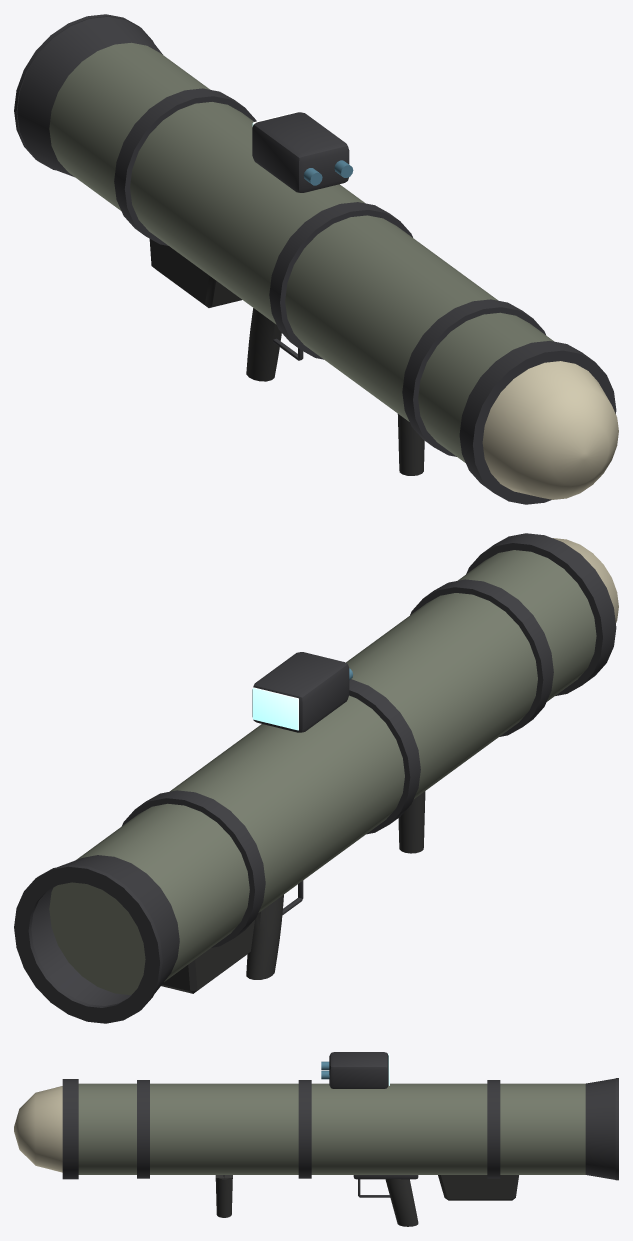
File: tortoise.glb
The picture shows the model from 3 angles, top to bottom: view 1: azimuth 30°, elevation 25°; view 2: azimuth 150°, elevation 25°; view 3: azimuth 270°, elevation 25°; orthographic projection. The views are drawn at different scales.
Visible parts, largest first — view 1: Body; view 2: Body; view 3: Body.
Boxes of the visible parts, x1,y1,x2,y2 form: Body: [14, 14, 618, 504]; Body: [14, 533, 618, 1023]; Body: [14, 1052, 618, 1226].
Size of the model in its own units: 0.1904 by 0.3378 by 1.12.
